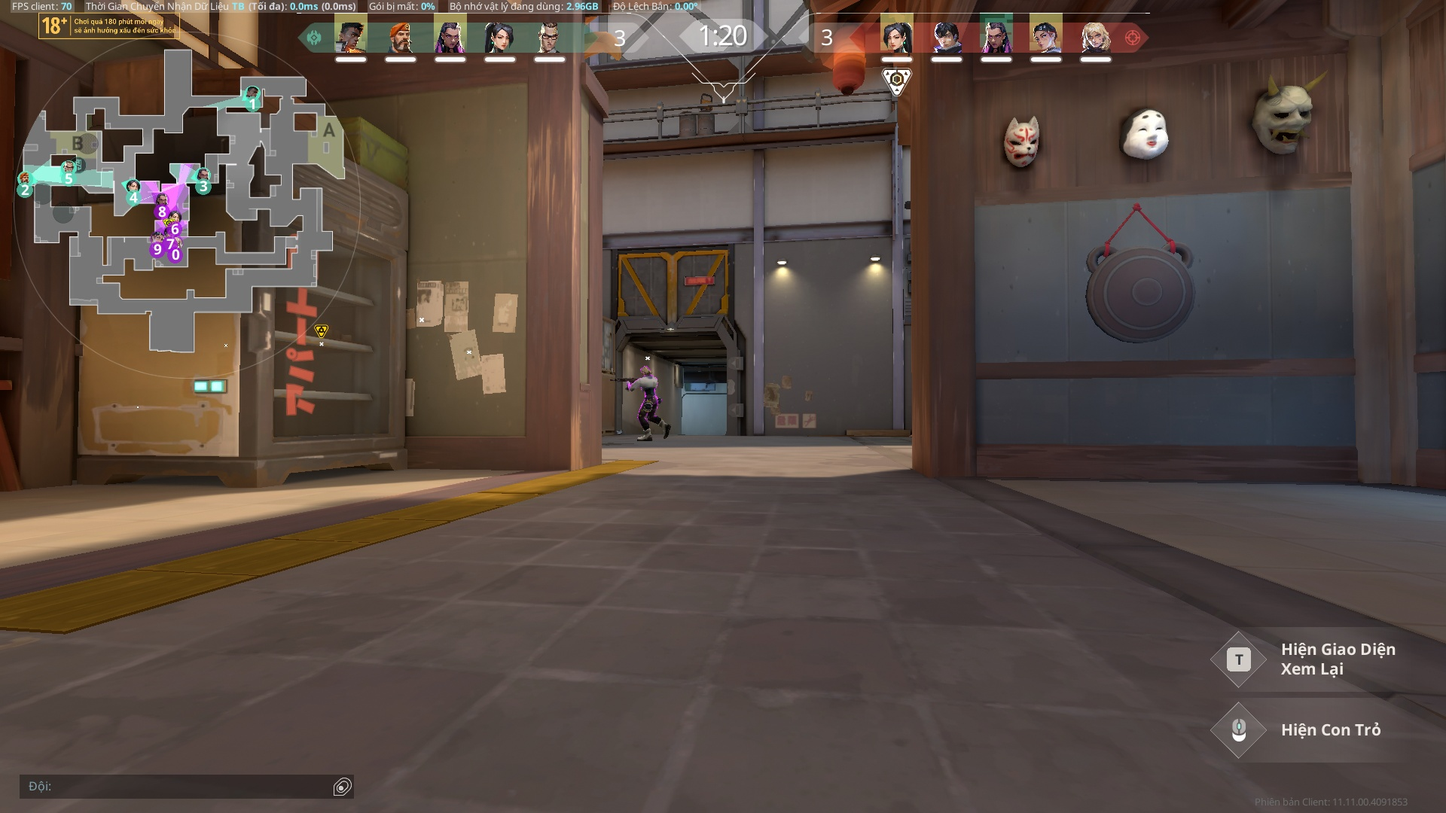body: (637, 374, 657, 397)
head: (639, 364, 651, 376)
